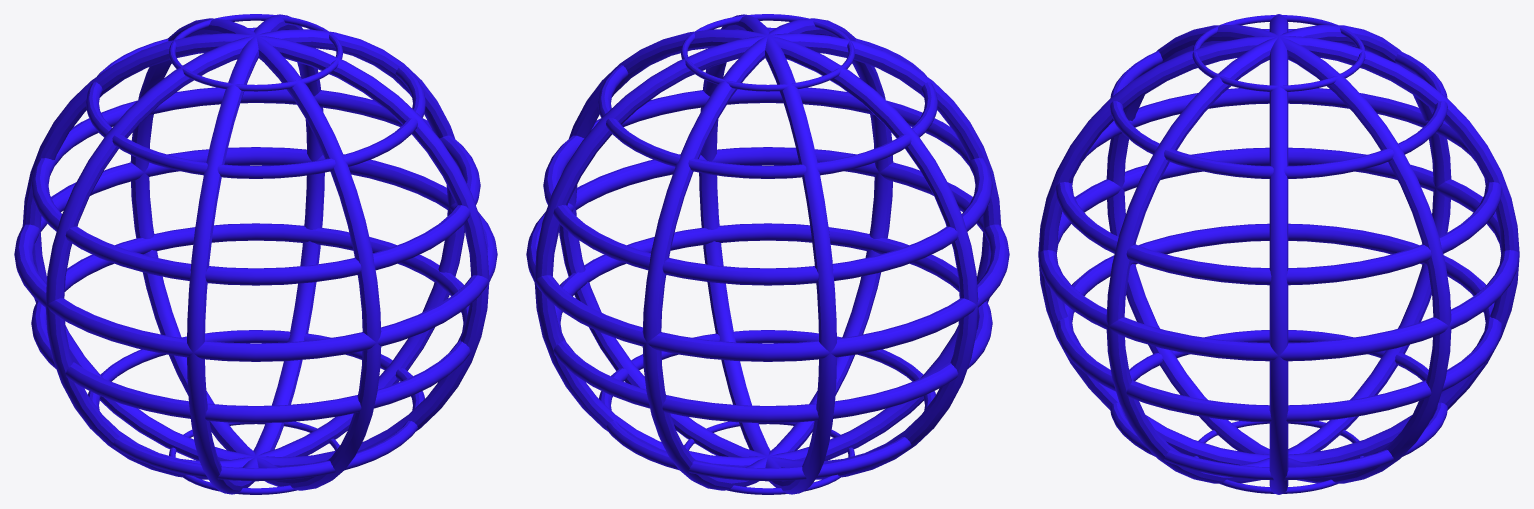
The model's file is Particle-31.dae.
The picture shows the model from 3 angles, left to right: view 1: azimuth 30°, elevation 25°; view 2: azimuth 150°, elevation 25°; view 3: azimuth 270°, elevation 25°; orthographic projection.
Visible parts, largest first — view 1: Particle; view 2: Particle; view 3: Particle.
Boxes of the visible parts, x1=… form: Particle: x1=14, y1=14, x2=497, y2=494; Particle: x1=526, y1=14, x2=1009, y2=494; Particle: x1=1038, y1=14, x2=1519, y2=494.
Bounding box in the file's own units: 0.104 × 0.104 × 0.104.
